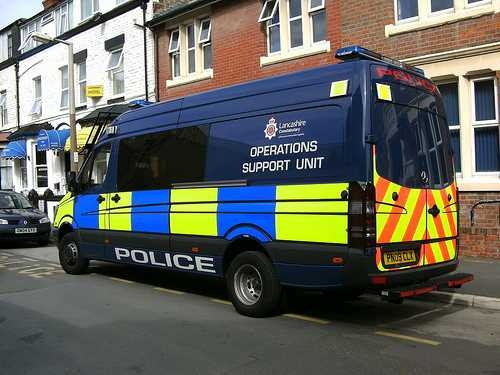Police Van: (32, 37, 480, 316)
